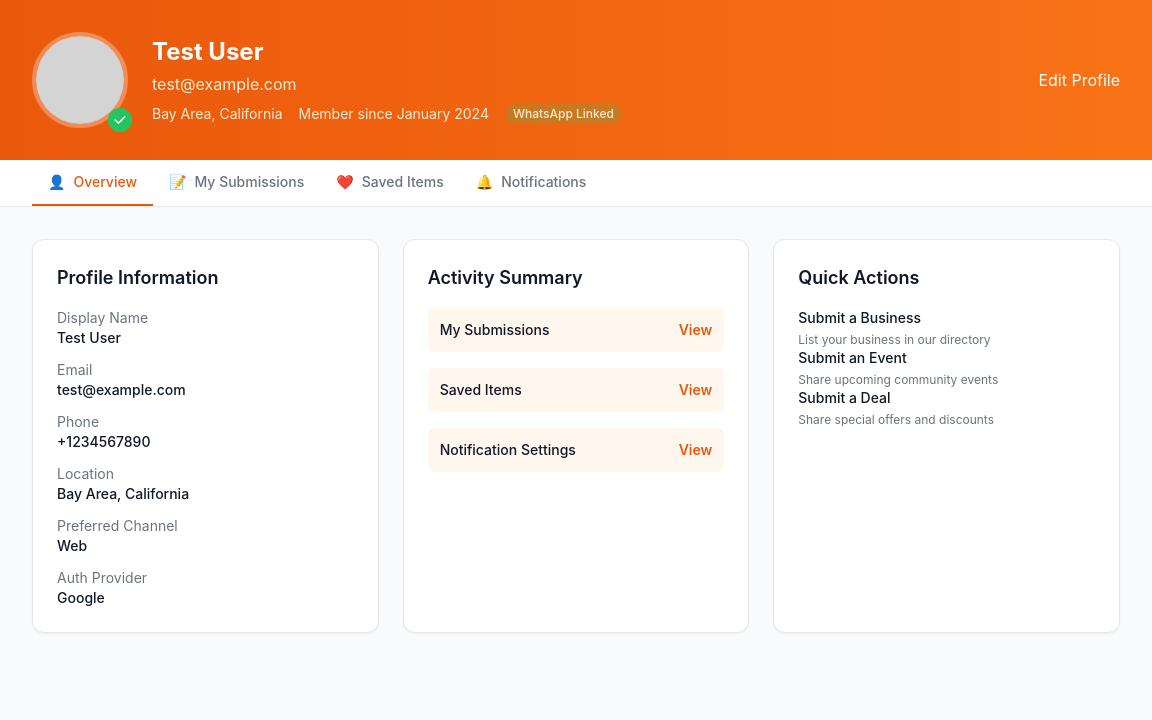
Scenario: ProfilePage › Submissions Tab › displays loading state when fetching submissions
The width and height of the screenshot is (1152, 720).
Click the tab "📝 My Submissions" at [237, 183], box [153,160,320,206]
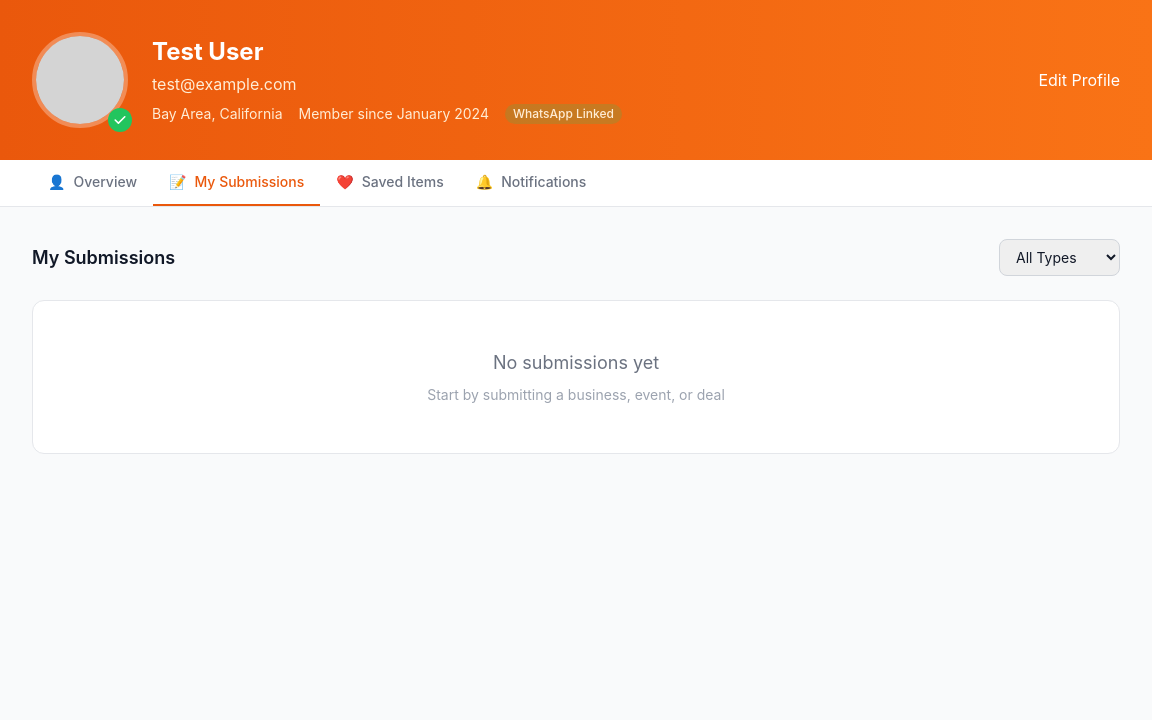
Result: the text "Loading submissions..." is shown at [427,386,725,403]
